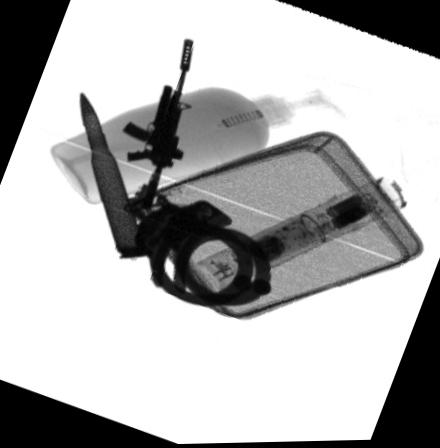Baton: (192, 180, 406, 297)
Bullet: (79, 90, 150, 260)
Gun: (121, 38, 195, 220)
HandCuffs: (132, 200, 271, 308)
